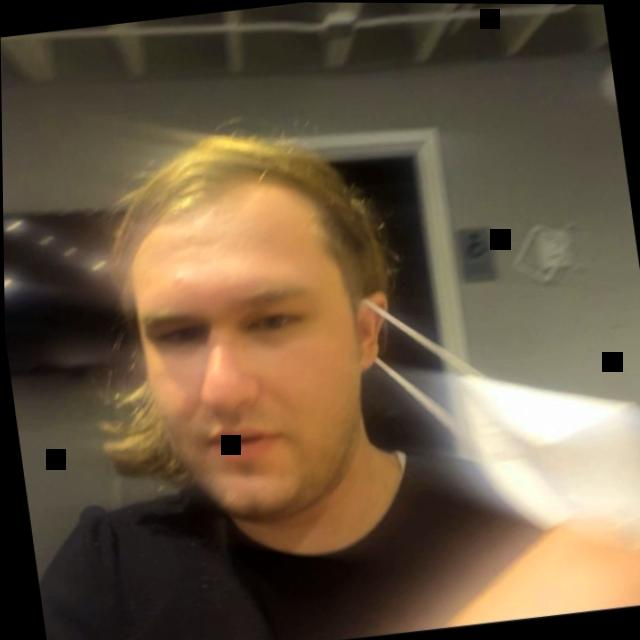NO-Mask: (82, 97, 419, 574)
